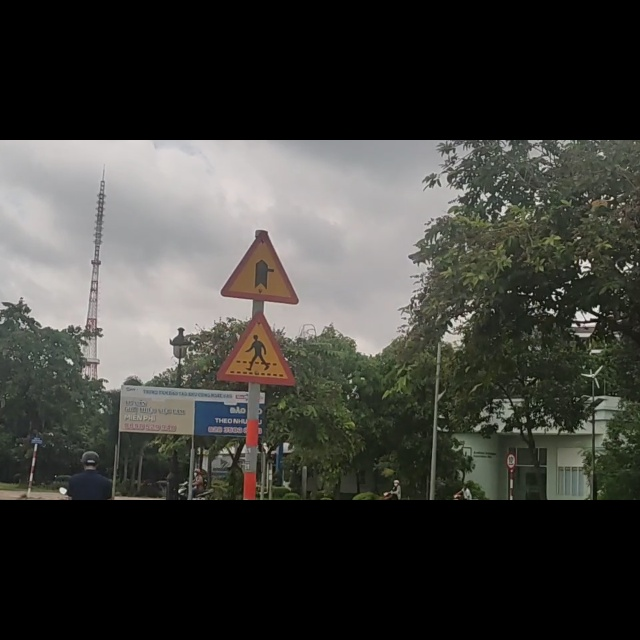bien_nguy_hiem: (215, 306, 297, 437), (220, 160, 299, 289)
